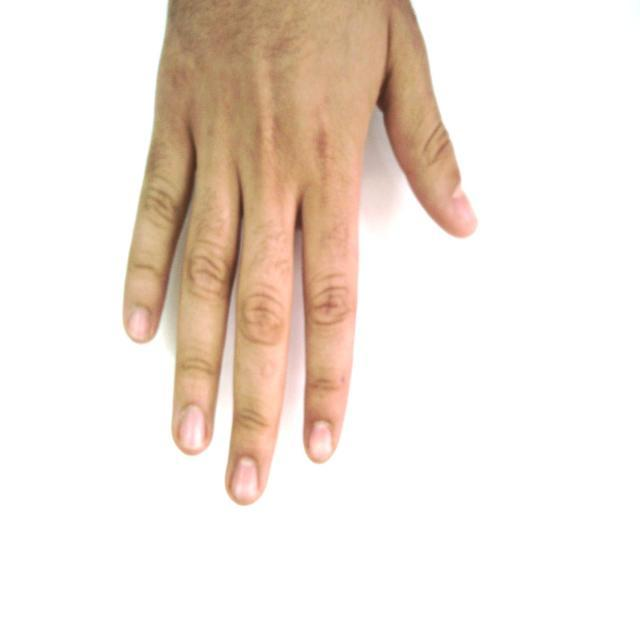Fingernail: (233, 458, 258, 501), (179, 407, 204, 450), (310, 422, 332, 460), (454, 189, 476, 225), (129, 309, 150, 340)
